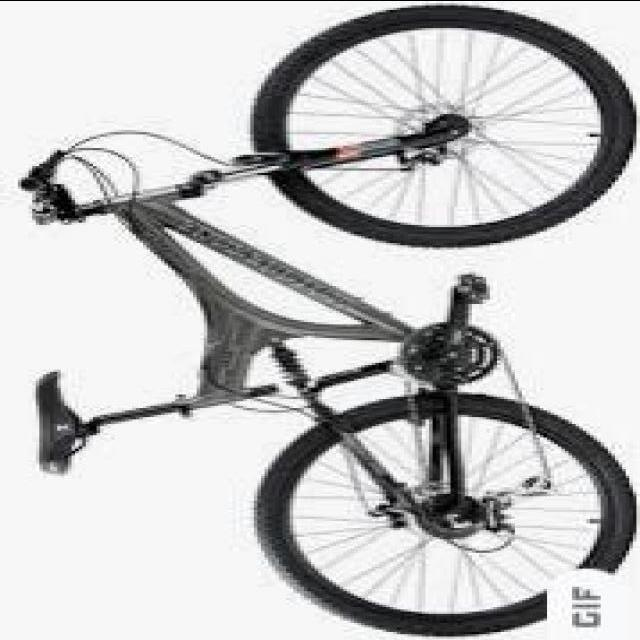bicycle: (29, 2, 640, 630)
